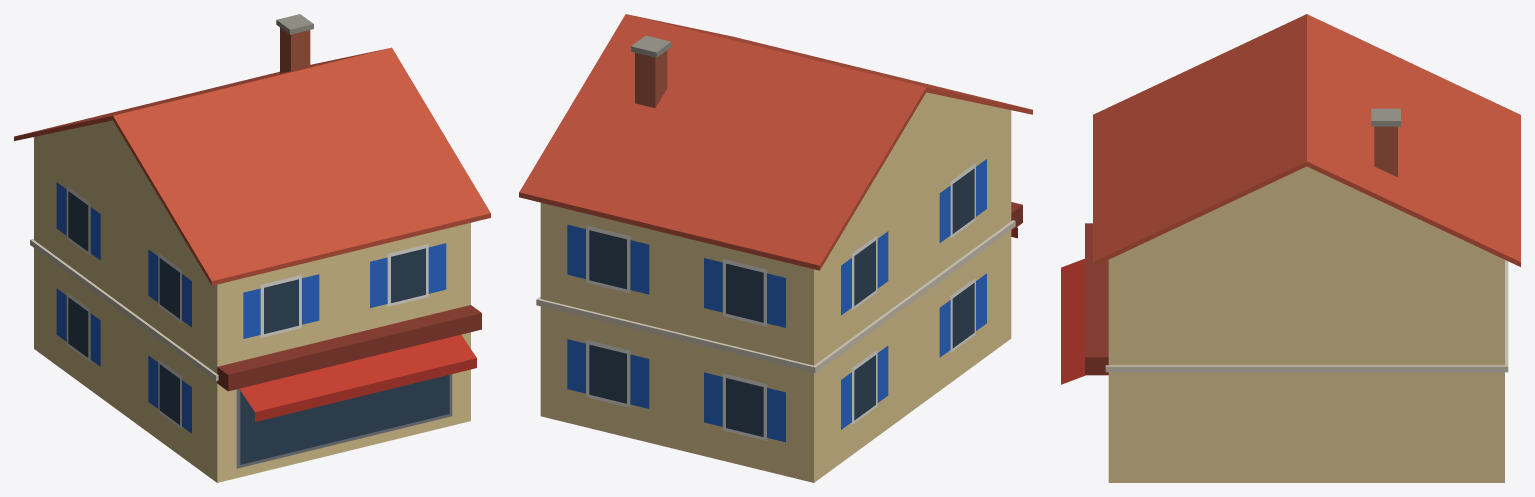
Rendered from boulangerie_village.glb.
The picture shows the model from 3 angles, left to right: view 1: azimuth 30°, elevation 25°; view 2: azimuth 150°, elevation 25°; view 3: azimuth 270°, elevation 25°; orthographic projection. The views are drawn at different scales.
Parts seen in each view (by area): view 1: boulangerie_village; view 2: boulangerie_village; view 3: boulangerie_village.
Boxes of the visible parts, bbox=[...] form: boulangerie_village: bbox=[14, 14, 490, 482]; boulangerie_village: bbox=[519, 14, 1032, 482]; boulangerie_village: bbox=[1061, 14, 1520, 482].
Size of the model in its own units: 8.8 by 9.55 by 11.6.
Materials: 1 (1 with a texture image).
